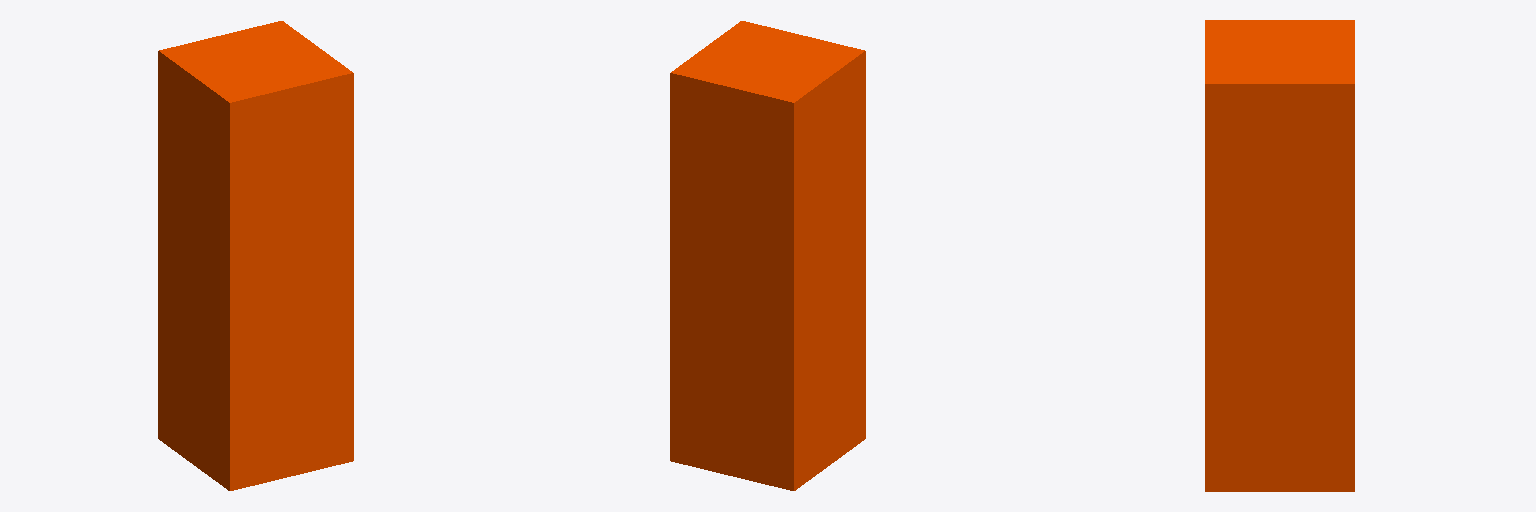
robot.urdf — objects:
<?xml  version="1.0"?>
<robot name ="objects"> 
    <!-- Author: [author]; e-mail:[email redacted]. The urdf file was develped in tongji university.-->

    <!--create  color params-->
    <material name ="LightGrey">
        <color rgba="0.7 0.7 0.7 1.0"/>
    </material>

    <material name ="White">
        <color rgba="1 1 1 1.0"/>
    </material>

    <material name ="Green">
        <color rgba="0.1. 0. 1.0 1.0"/>
    </material>

    <material name ="Yellw">
        <color rgba="1. 1. 0. 1.0"/>
    </material>

    <material name ="Orange">
        <color rgba="1. 0.38 0. 1.0"/>
    </material>

    <material name ="Blue">
        <color rgba="0.69 0.87 0.9 1.0"/>
    </material>

    <mass name ="table_mass">
        <mass value="1.0"/>
    </mass>

    <mass name ="cylander_mass">
        <mass value="2.0"/>
    </mass>



    <link  name ="World"/>

    <joint name="cylinder1_to_world" type="floating">
        <parent link="World"/>
        <child link="cylinder1"/>
        <origin xyz="0. 0. 0." rpy="0.0 0.0 0.0"/>
    </joint>

    <link name = "cylinder1">
        <contact>
            <lateral_friction value="0.05"/>
            <rolling_friction value="0.0"/>
            <contact_erp value="1.0"/>
        </contact>
        <visual>
            <origin  xyz="0.0 0.0 0.0" rpy="0.0 0.0 0.0"/>
            <geometry>
                <mesh filename = "meshes/square.stl"/>
            </geometry >
            <material name ="Orange"/>
        </visual>
        <collision>
            <origin xyz="0.0 0.0 0.0" rpy="0.0 0.0 0.0"/>
            <geometry>
                <mesh filename ="meshes/square.stl"/>
            </geometry>
        </collision>
        <inertial>
            <mass value = "0.5"/>
            <inertia ixx="1" ixy="0.0" ixz="0.0" iyy="1" iyz="0.0" izz="1"/>
        </inertial>
    </link>
</robot>

--- Render facts (derived) ---
The picture shows the robot from 3 angles, left to right: view 1: azimuth 30°, elevation 25°; view 2: azimuth 150°, elevation 25°; view 3: azimuth 270°, elevation 25°; orthographic projection.
Robot: objects — 2 links, 1 joints (1 floating); root link World; default pose: every joint at zero.
Links seen in each view (by area): view 1: cylinder1; view 2: cylinder1; view 3: cylinder1.
Link boxes in pixels (<box>): cylinder1: <box>158,21,353,490</box>; cylinder1: <box>670,21,865,490</box>; cylinder1: <box>1205,20,1354,491</box>.
Size in the robot's own frame: 0.1 by 0.1 by 0.3 metres.
1 mesh visuals loaded from 1 distinct referenced files (1 binary STL).